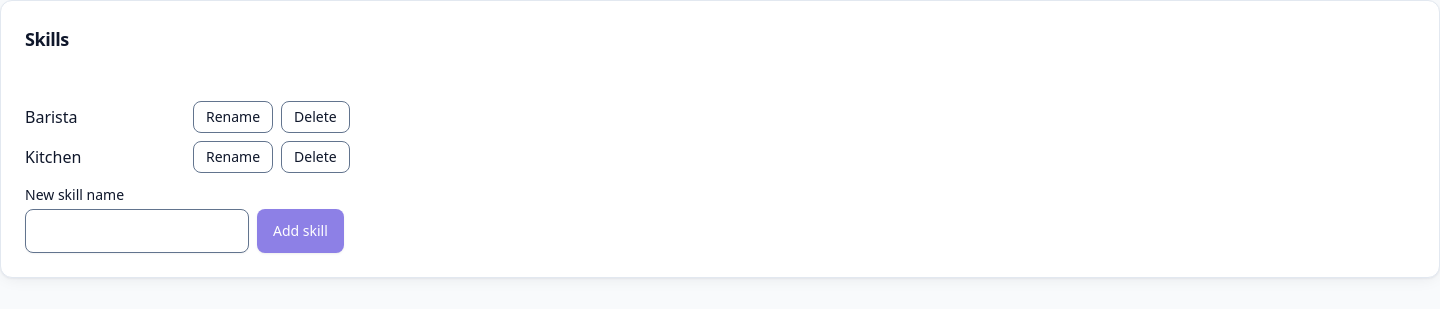
it: SkillsSection › renames inline
The image size is (1440, 309).
Click the button with aria-label "Rename Barista".
click(233, 117)  # box [193,101,273,133]
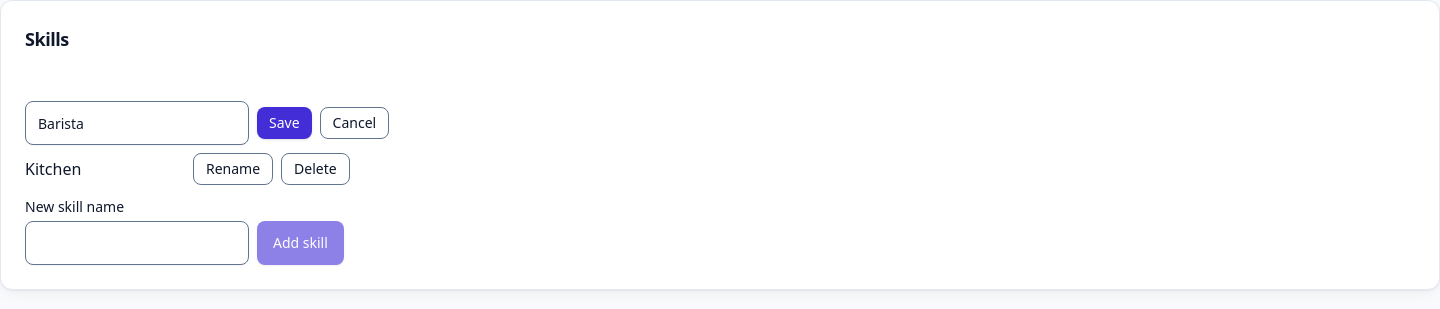
Replace the text in the field named "New name for Barista" with "Barista II" at point(137, 123), box [25,101,249,145]
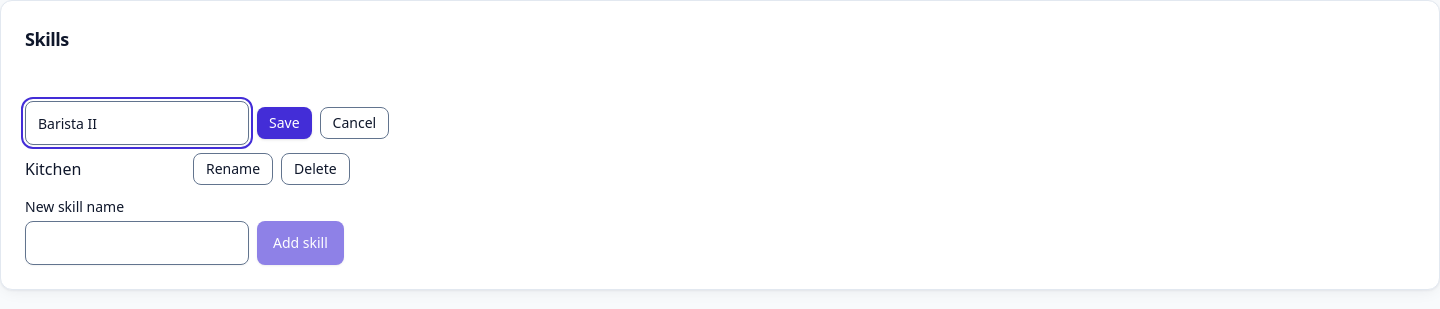
Click the button with aria-label "Save name for Barista".
click(284, 123)  # box [257,107,312,139]
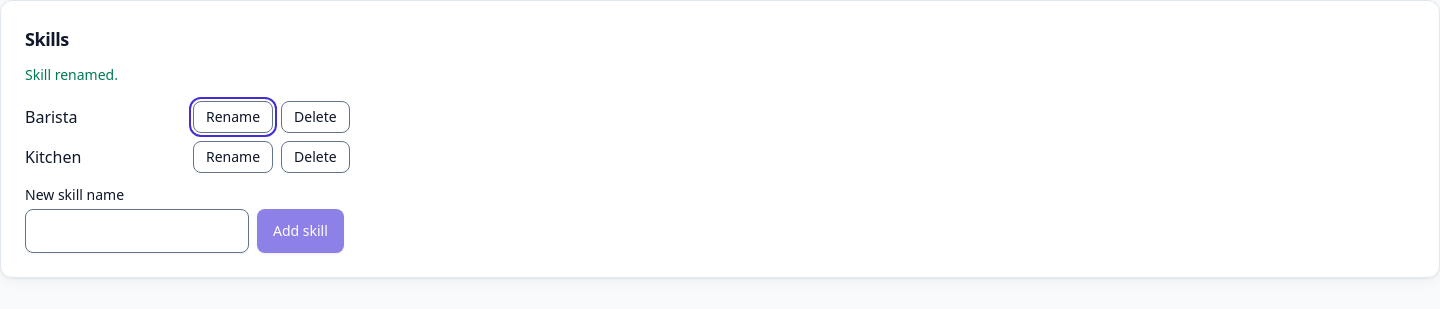
Now the text "Skill renamed." is shown, box [25,65,118,84]
